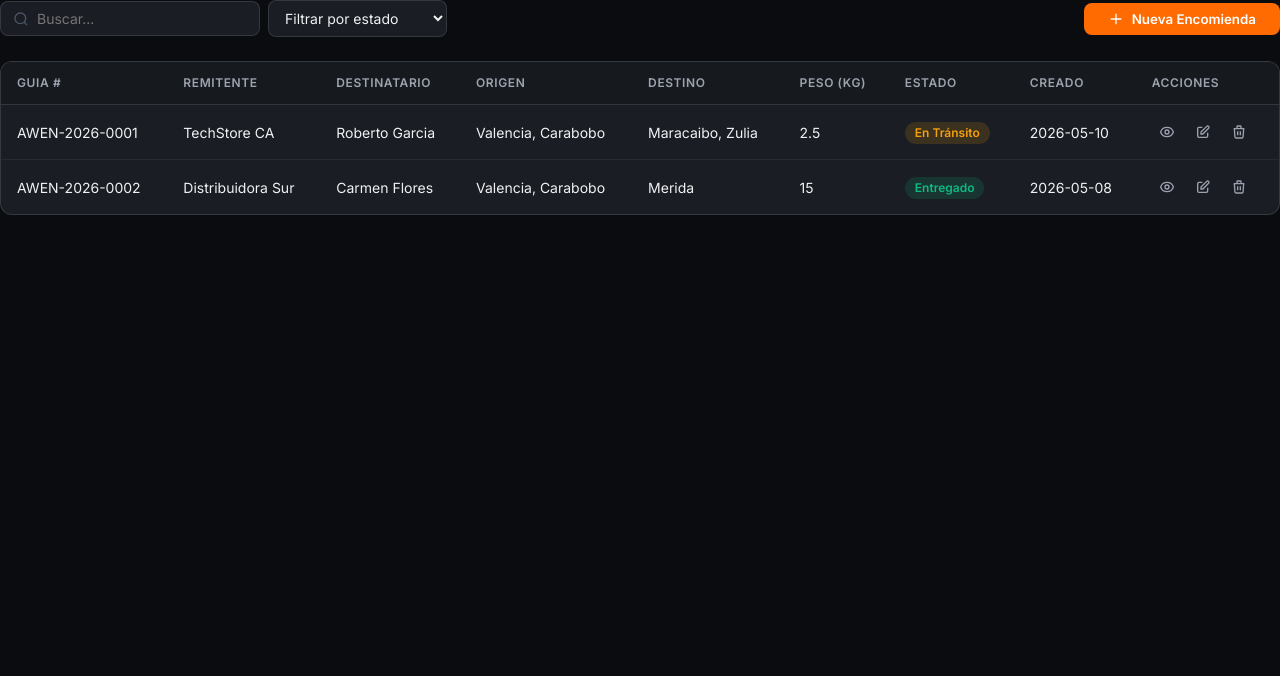
Test: ParcelManagement › abre el formulario de nueva encomienda
The width and height of the screenshot is (1280, 676).
expect the text "AWEN-2026-0001" is shown: met, box [1, 104, 167, 160]
Click the button "Nueva Encomienda" at (1182, 18), box [1084, 2, 1279, 34]
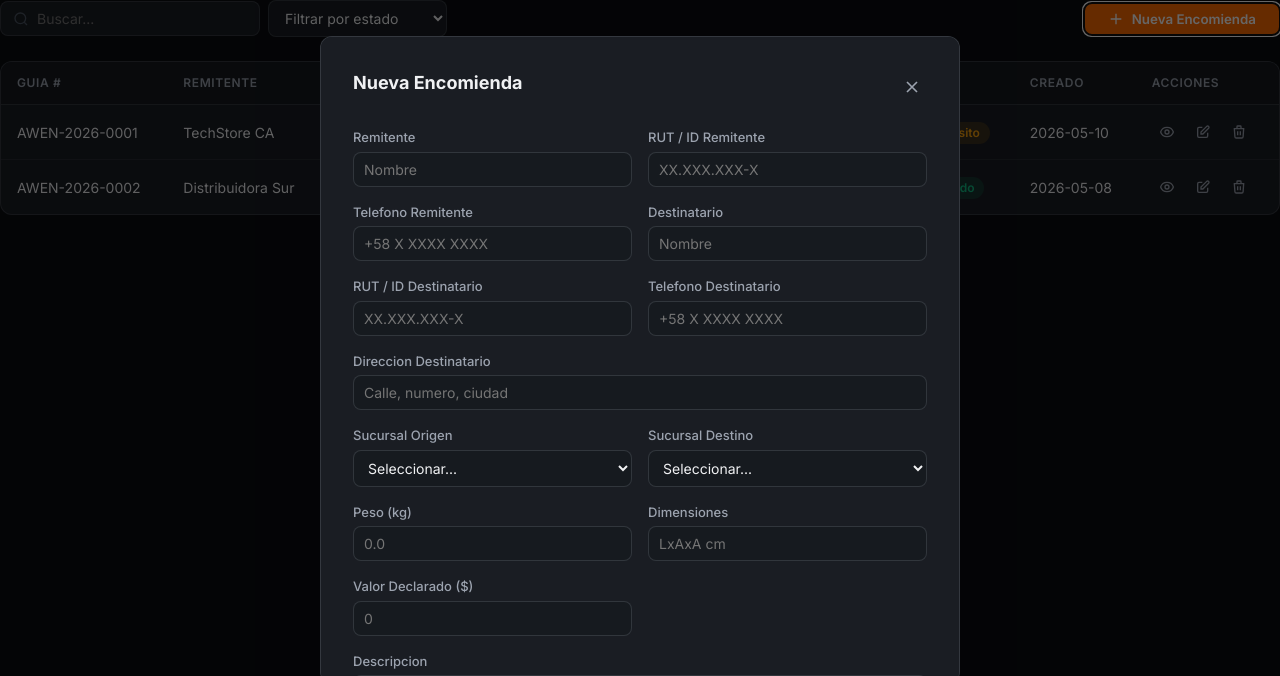
expect the heading "Nueva Encomienda" is shown: met, box [353, 69, 522, 96]
expect the text "Sucursal Origen" is shown: met, box [353, 427, 453, 443]
expect the text "Sucursal Destino" is shown: met, box [648, 427, 753, 443]
